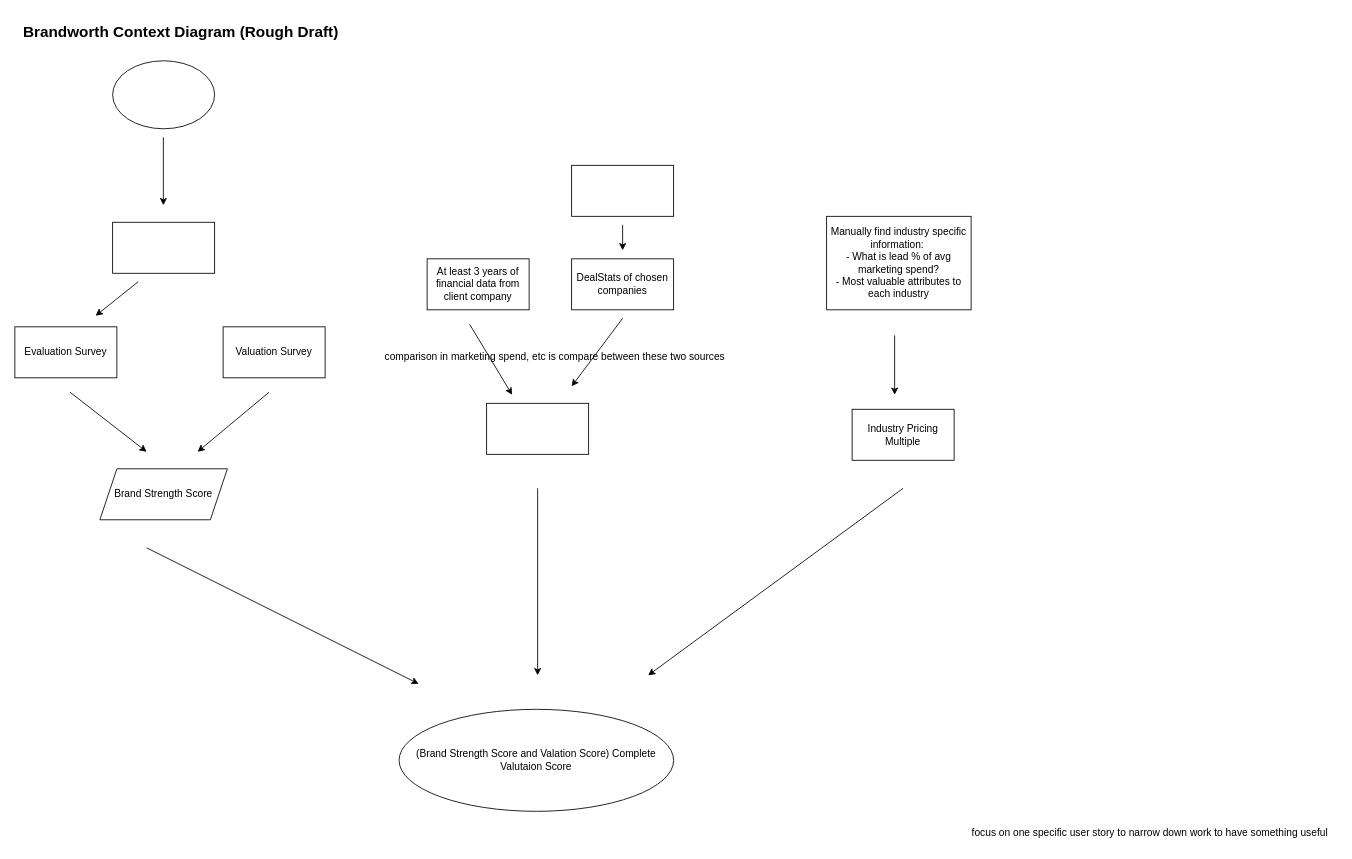
The diagram is 1352 pixels wide and 859 high, and some of its shapes have lost their labels. The centre of each missing label's shape, as x and y in pixels:
"Company financial info multiplier" belongs at point 537,428.
"Context Questions (this is where NAICS code is collected)" belongs at point 163,247.
"End-user signs in" belongs at point 163,94.
"Manually find similar companies based on NAICS code" belongs at point 622,190.
